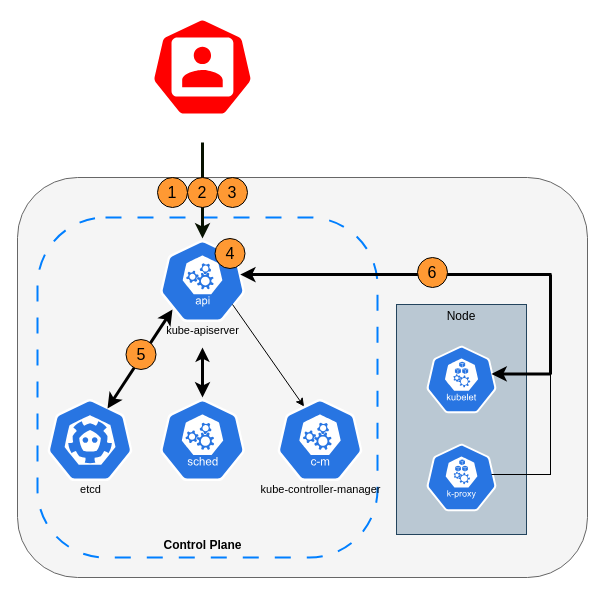
Image size: 605x595. Some labels were removed from this diagram. Here are the shapes that lost their labels. From the top down, the box of each, then its label:
(150, 16, 254, 116): User
(426, 344, 496, 414): kubelet
(159, 396, 245, 482): kube-scheduler
(426, 442, 496, 512): k-proxy
